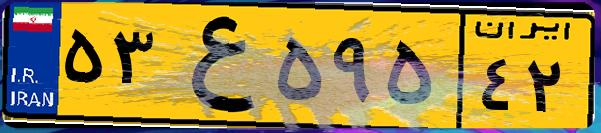2: (525, 38, 570, 115)
3: (110, 28, 158, 98)
4: (475, 38, 525, 113)
5: (270, 28, 330, 110), (385, 28, 445, 110), (57, 26, 110, 100)
9: (330, 28, 385, 110)
ع: (158, 12, 270, 120)
